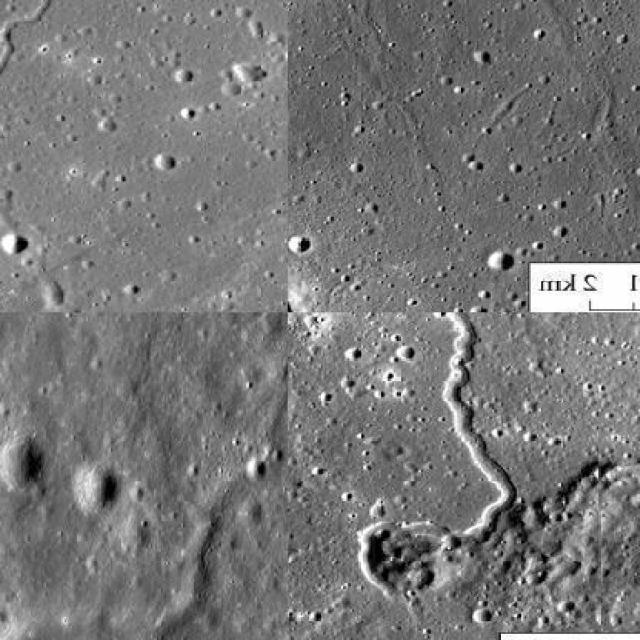rille: (399, 0, 638, 255), (0, 463, 265, 639), (357, 312, 520, 598), (0, 0, 244, 175), (288, 0, 452, 205)
